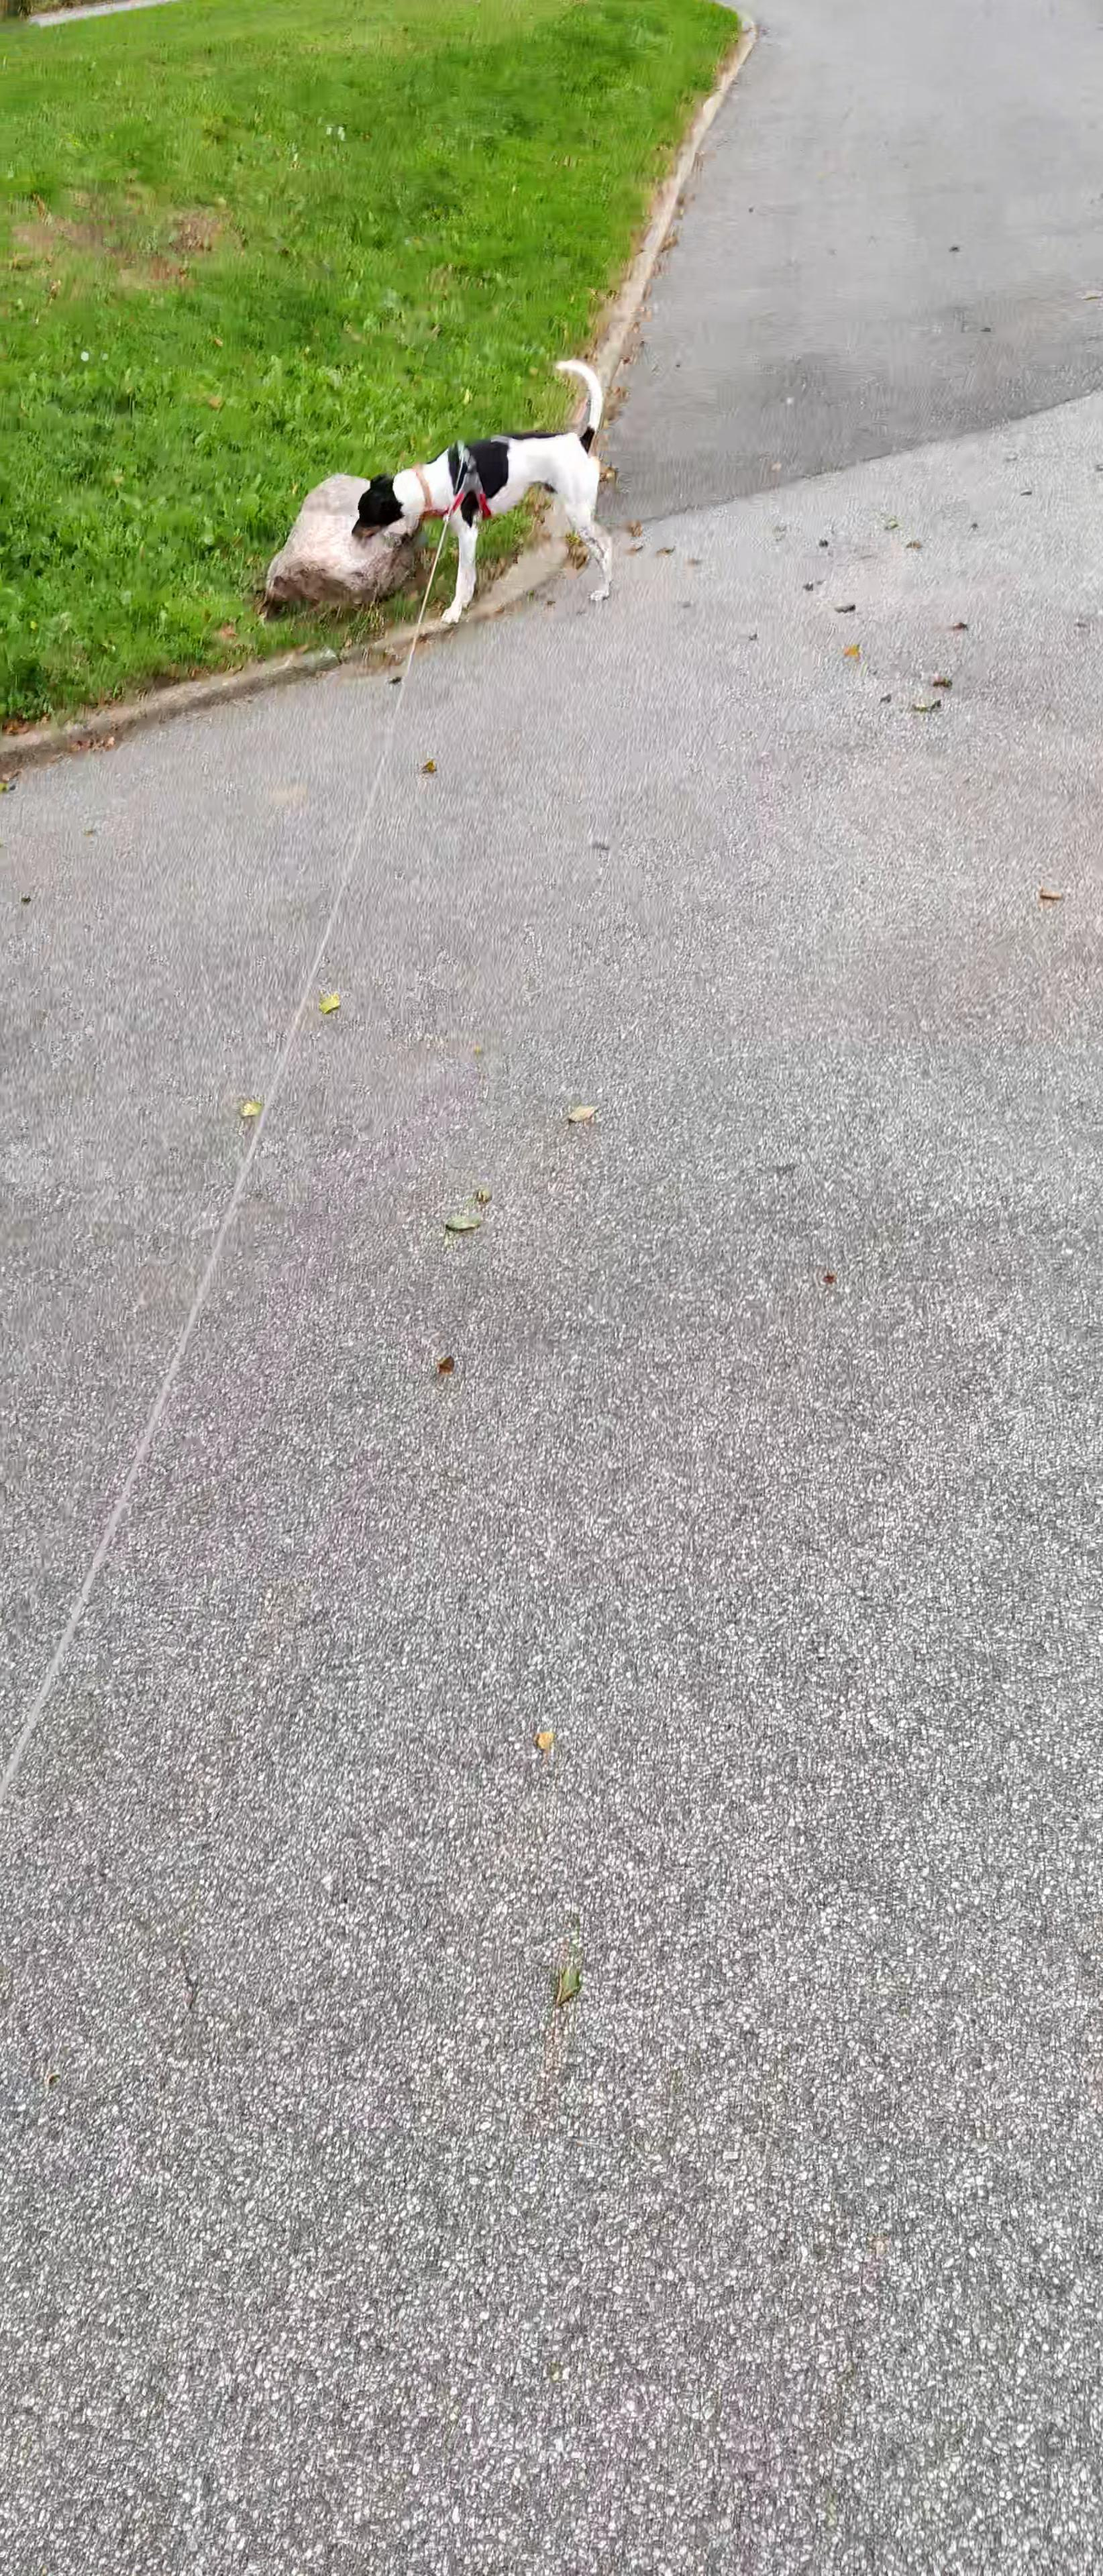Dog: (332, 350, 656, 632)
